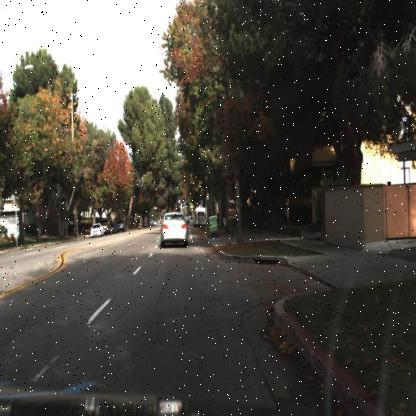car: (156, 203, 191, 250), (85, 218, 106, 239)
